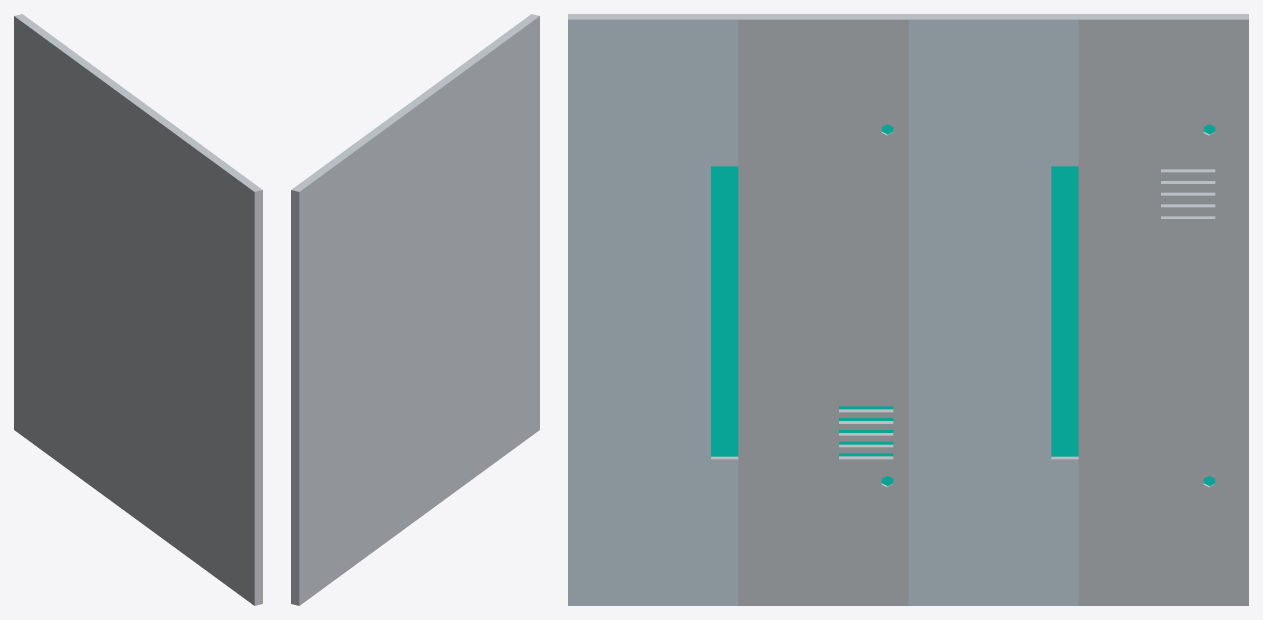
File: wall-02b.fbx
3 views of the same model, side by side, from view 1: azimuth 30°, elevation 25°; view 2: azimuth 150°, elevation 25°; view 3: azimuth 270°, elevation 25° (orthographic). The views are drawn at different scales.
Visible parts, largest first — view 1: wall-02b; view 2: wall-02b; view 3: wall-02b.
Boxes of the visible parts, bbox=[...] form: wall-02b: bbox=[14, 14, 262, 605]; wall-02b: bbox=[291, 14, 539, 605]; wall-02b: bbox=[568, 14, 1248, 605].
Bounding box in the file's own units: 2 × 95 × 100.
